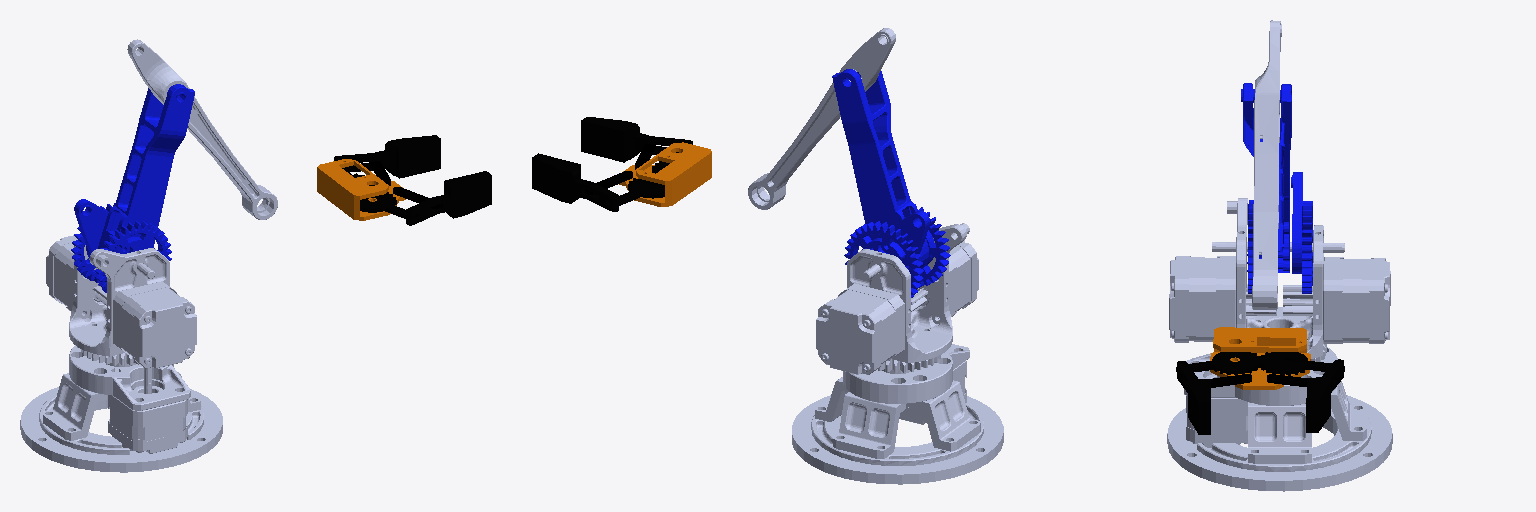
URDF robot description (arm_assem_urdf_v3):
<?xml version="1.0" encoding="utf-8" ?>
<!-- This URDF was automatically created by SolidWorks to URDF Exporter! Originally created by [author] ([email redacted]) 
     Commit Version: 1.6.0-4-g7f85cfe  Build Version: 1.6.7995.38578
     For more information, please see http://wiki.ros.org/sw_urdf_exporter -->
<robot name="arm_assem_urdf_v3">
    <link name="base_link">
        <inertial>
            <origin xyz="0.00150640163569479 -0.00744412697137323 0.021575291745562" rpy="0 0 0" />
            <mass value="0.225155608259606" />
            <inertia ixx="0.000158731186562235" ixy="1.89478288443537E-10" ixz="6.38637064713494E-07" iyy="0.000155364980363025" iyz="-7.89520234501468E-07" izz="0.000292560052720127" />
        </inertial>
        <visual>
            <origin xyz="0 0 0" rpy="0 0 0" />
            <geometry>
                <mesh filename="package://arm_assem_urdf_v3/meshes/base_link.STL" />
            </geometry>
            <material name="">
                <color rgba="0.792156862745098 0.819607843137255 0.933333333333333 1" />
            </material>
        </visual>
        <collision>
            <origin xyz="0 0 0" rpy="0 0 0" />
            <geometry>
                <mesh filename="package://arm_assem_urdf_v3/meshes/base_link.STL" />
            </geometry>
        </collision>
    </link>
    <link name="world" />
    <joint name="base_joint" type="fixed">
        <parent link="world" />
        <child link="base_link" />
        <origin rpy="0 0 0" xyz="0.0 0.0 0.0" />
    </joint>
    <link name="Link1">
        <inertial>
            <origin xyz="-0.000219660149647 -0.000206217410116394 0.0234208435275494" rpy="0 0 0" />
            <mass value="0.204256155677227" />
            <inertia ixx="8.37656797330928E-05" ixy="-1.11869600215038E-06" ixz="1.97407066773803E-06" iyy="7.64080027310773E-05" iyz="1.77249752239893E-06" izz="7.39724330055071E-05" />
        </inertial>
        <visual>
            <origin xyz="0 0 0" rpy="0 0 0" />
            <geometry>
                <mesh filename="package://arm_assem_urdf_v3/meshes/Link1.STL" />
            </geometry>
            <material name="">
                <color rgba="0.792156862745098 0.819607843137255 0.933333333333333 1" />
            </material>
        </visual>
        <collision>
            <origin xyz="0 0 0" rpy="0 0 0" />
            <geometry>
                <mesh filename="package://arm_assem_urdf_v3/meshes/Link1.STL" />
            </geometry>
        </collision>
    </link>
    <joint name="joint1" type="revolute">
        <origin xyz="0 0 0.069677" rpy="0 0 0" />
        <parent link="base_link" />
        <child link="Link1" />
        <axis xyz="0 0 -1" />
        <limit lower="-1.57" upper="1.57" effort="300" velocity="6" />
    </joint>
    <link name="link2">
        <inertial>
            <origin xyz="-0.000635030725265592 -0.0017005378112866 0.0303940578530917" rpy="0 0 0" />
            <mass value="0.0618234826721945" />
            <inertia ixx="7.2519438819205E-05" ixy="8.94729351156938E-08" ixz="-3.46012942132548E-07" iyy="7.65877029225625E-05" iyz="2.11637770985362E-06" izz="9.13398981116826E-06" />
        </inertial>
        <visual>
            <origin xyz="0 0 0" rpy="0 0 0" />
            <geometry>
                <mesh filename="package://arm_assem_urdf_v3/meshes/link2.STL" />
            </geometry>
            <material name="">
                <color rgba="0.0941176470588235 0.145098039215686 0.972549019607843 1" />
            </material>
        </visual>
        <collision>
            <origin xyz="0 0 0" rpy="0 0 0" />
            <geometry>
                <mesh filename="package://arm_assem_urdf_v3/meshes/link2.STL" />
            </geometry>
        </collision>
    </link>
    <joint name="joint2" type="revolute">
        <origin xyz="0 0 0.060523" rpy="0.0010408 0.27868 0.00028631" />
        <parent link="Link1" />
        <child link="link2" />
        <axis xyz="0.018199 0.99983 0.0041666" />
        <limit lower="-1.57" upper="1.57" effort="300" velocity="6" />
    </joint>
    <link name="link3">
        <inertial>
            <origin xyz="-0.000154541510170358 0.00680484750009253 0.0412582679635699" rpy="0 0 0" />
            <mass value="0.0214055275323528" />
            <inertia ixx="5.24770197465649E-05" ixy="-4.53189771846521E-09" ixz="2.11924573360701E-08" iyy="5.26782722904222E-05" iyz="-9.45340410405457E-07" izz="8.8759756943985E-07" />
        </inertial>
        <visual>
            <origin xyz="0 0 0" rpy="0 0 0" />
            <geometry>
                <mesh filename="package://arm_assem_urdf_v3/meshes/link3.STL" />
            </geometry>
            <material name="">
                <color rgba="0.792156862745098 0.819607843137255 0.933333333333333 1" />
            </material>
        </visual>
        <collision>
            <origin xyz="0 0 0" rpy="0 0 0" />
            <geometry>
                <mesh filename="package://arm_assem_urdf_v3/meshes/link3.STL" />
            </geometry>
        </collision>
    </link>
    <joint name="joint3" type="revolute">
        <origin xyz="0 0 0.12" rpy="3.1205 -0.88394 0.012478" />
        <parent link="link2" />
        <child link="link3" />
        <axis xyz="0.022672 -0.99974 0" />
        <limit lower="-1.57" upper="1.57" effort="300" velocity="6" />
    </joint>
    <link name="link4">
        <inertial>
            <origin xyz="-0.00934298668041544 0.000743518808622917 0.0267425924332726" rpy="0 0 0" />
            <mass value="0.023112618067934" />
            <inertia ixx="3.49933692107677E-06" ixy="2.69354223820958E-07" ixz="-1.92888175122474E-07" iyy="3.25892331793769E-06" iyz="4.91629627315494E-09" izz="4.7358787095275E-06" />
        </inertial>
        <visual>
            <origin xyz="0 0 0" rpy="0 0 0" />
            <geometry>
                <mesh filename="package://arm_assem_urdf_v3/meshes/link4.STL" />
            </geometry>
            <material name="">
                <color rgba="0.0941176470588235 0.145098039215686 0.972549019607843 1" />
            </material>
        </visual>
        <collision>
            <origin xyz="0 0 0" rpy="0 0 0" />
            <geometry>
                <mesh filename="package://arm_assem_urdf_v3/meshes/link4.STL" />
            </geometry>
        </collision>
    </link>
    <joint name="joint4" type="revolute">
        <origin xyz="0 0 0.12" rpy="-0.96533 0 -1.5481" />
        <parent link="link3" />
        <child link="link4" />
        <axis xyz="1 0 0" />
        <limit lower="-1.57" upper="1.57" effort="300" velocity="6" />
    </joint>
    <link name="link5">
        <inertial>
            <origin xyz="-0.00239092663439414 -0.00197324019686757 0.0161784991555977" rpy="0 0 0" />
            <mass value="0.0126330821792413" />
            <inertia ixx="2.68274528562228E-06" ixy="6.34711081616282E-08" ixz="3.16305210084618E-08" iyy="5.25117320157148E-06" iyz="3.98302641486583E-07" izz="3.73419870748951E-06" />
        </inertial>
        <visual>
            <origin xyz="0 0 0" rpy="0 0 0" />
            <geometry>
                <mesh filename="package://arm_assem_urdf_v3/meshes/link5.STL" />
            </geometry>
            <material name="">
                <color rgba="0.866666666666667 0.486274509803922 0.0588235294117647 1" />
            </material>
        </visual>
        <collision>
            <origin xyz="0 0 0" rpy="0 0 0" />
            <geometry>
                <mesh filename="package://arm_assem_urdf_v3/meshes/link5.STL" />
            </geometry>
        </collision>
    </link>
    <joint name="joint5" type="revolute">
        <origin xyz="-0.0072522 -0.0056047 0.0561" rpy="0 0 0" />
        <parent link="link4" />
        <child link="link5" />
        <axis xyz="0 0 -1" />
        <limit lower="-1.57" upper="1.57" effort="300" velocity="6" />
    </joint>
    <link name="rightGripper">
        <inertial>
            <origin xyz="0.00144162102260376 -0.00353867607475858 2.30607200002453E-13" rpy="0 0 0" />
            <mass value="0.00233493264577781" />
            <inertia ixx="3.0457499132358E-07" ixy="6.56068122289291E-08" ixz="2.90693388184678E-22" iyy="1.3682092240518E-07" iyz="-1.51570107499573E-21" izz="4.37893514760094E-07" />
        </inertial>
        <visual>
            <origin xyz="0 0 0" rpy="0 0 0" />
            <geometry>
                <mesh filename="package://arm_assem_urdf_v3/meshes/rightGripper.STL" />
            </geometry>
            <material name="">
                <color rgba="0.0196078431372549 0.0196078431372549 0.0196078431372549 1" />
            </material>
        </visual>
        <collision>
            <origin xyz="0 0 0" rpy="0 0 0" />
            <geometry>
                <mesh filename="package://arm_assem_urdf_v3/meshes/rightGripper.STL" />
            </geometry>
        </collision>
    </link>
    <joint name="rgripper_joint" type="revolute">
        <origin xyz="-0.016798 -0.0043953 0.0205" rpy="-1.5708 -1.5522 0" />
        <parent link="link5" />
        <child link="rightGripper" />
        <axis xyz="0 0 -1" />
        <limit lower="-1.57" upper="1.57" effort="300" velocity="6" />
    </joint>
    <link name="r_finger">
        <inertial>
            <origin xyz="0.044314154210055 0.0103703079345868 0.000990344503798118" rpy="0 0 0" />
            <mass value="0.00995624544719296" />
            <inertia ixx="5.42065432815972E-07" ixy="-4.36707086314946E-07" ixz="-2.97754922218503E-09" iyy="2.70090956464801E-06" iyz="-6.12682587836477E-10" izz="2.53748010084301E-06" />
        </inertial>
        <visual>
            <origin xyz="0 0 0" rpy="0 0 0" />
            <geometry>
                <mesh filename="package://arm_assem_urdf_v3/meshes/r_finger.STL" />
            </geometry>
            <material name="">
                <color rgba="0.0196078431372549 0.0196078431372549 0.0196078431372549 1" />
            </material>
        </visual>
        <collision>
            <origin xyz="0 0 0" rpy="0 0 0" />
            <geometry>
                <mesh filename="package://arm_assem_urdf_v3/meshes/r_finger.STL" />
            </geometry>
        </collision>
    </link>
    <joint name="r_fingerj" type="revolute">
        <origin xyz="0.010575 -0.03205 -0.0015" rpy="0 0 0" />
        <parent link="rightGripper" />
        <child link="r_finger" />
        <axis xyz="0 0 -1" />
        <limit lower="-1.57" upper="1.57" effort="300" velocity="6" />
    </joint>
    <link name="leftGripper">
        <inertial>
            <origin xyz="0.00125836519034134 0.00326509739095496 -6.2762673342015E-05" rpy="0 0 0" />
            <mass value="0.00220737553386929" />
            <inertia ixx="3.0234988544685E-07" ixy="-5.673947300425E-08" ixz="6.61985177775197E-11" iyy="1.28450669790127E-07" iyz="3.94721215242359E-10" izz="4.27506882316946E-07" />
        </inertial>
        <visual>
            <origin xyz="0 0 0" rpy="0 0 0" />
            <geometry>
                <mesh filename="package://arm_assem_urdf_v3/meshes/leftGripper.STL" />
            </geometry>
            <material name="">
                <color rgba="0.0196078431372549 0.0196078431372549 0.0196078431372549 1" />
            </material>
        </visual>
        <collision>
            <origin xyz="0 0 0" rpy="0 0 0" />
            <geometry>
                <mesh filename="package://arm_assem_urdf_v3/meshes/leftGripper.STL" />
            </geometry>
        </collision>
    </link>
    <joint name="Lgripperjoint" type="revolute">
        <origin xyz="0.013202 -0.0043953 0.0205" rpy="-1.5708 -1.5522 0" />
        <parent link="link5" />
        <child link="leftGripper" />
        <axis xyz="0 0 1" />
        <limit lower="-1.57" upper="1.57" effort="300" velocity="6" />
    </joint>
    <link name="l_fing">
        <inertial>
            <origin xyz="0.0438967443303473 -0.0120151315934035 0.00150965549635686" rpy="0 0 0" />
            <mass value="0.00995624544719296" />
            <inertia ixx="5.77604056032025E-07" ixy="5.15919018530005E-07" ixz="2.95263858591668E-09" iyy="2.66537094143195E-06" iyz="-7.23259776929588E-10" izz="2.53748010084301E-06" />
        </inertial>
        <visual>
            <origin xyz="0 0 0" rpy="0 0 0" />
            <geometry>
                <mesh filename="package://arm_assem_urdf_v3/meshes/l_fing.STL" />
            </geometry>
            <material name="">
                <color rgba="0.0196078431372549 0.0196078431372549 0.0196078431372549 1" />
            </material>
        </visual>
        <collision>
            <origin xyz="0 0 0" rpy="0 0 0" />
            <geometry>
                <mesh filename="package://arm_assem_urdf_v3/meshes/l_fing.STL" />
            </geometry>
        </collision>
    </link>
    <joint name="l_fing_j" type="revolute">
        <origin xyz="0.0092191 0.032466 -0.0015" rpy="0 0 0" />
        <parent link="leftGripper" />
        <child link="l_fing" />
        <axis xyz="0 0 -1" />
        <limit lower="-1.57" upper="1.57" effort="300" velocity="6" />
    </joint>
    <link name="r_elbo">
        <inertial>
            <origin xyz="0.00528751165543523 -0.0160252252868439 0.00150000000007736" rpy="0 0 0" />
            <mass value="0.000682275993524469" />
            <inertia ixx="6.76453700296653E-08" ixy="2.13243058801086E-08" ixz="1.05378813934445E-22" iyy="1.00522688788846E-08" iyz="-3.299793730521E-22" izz="7.66742249182632E-08" />
        </inertial>
        <visual>
            <origin xyz="0 0 0" rpy="0 0 0" />
            <geometry>
                <mesh filename="package://arm_assem_urdf_v3/meshes/r_elbo.STL" />
            </geometry>
            <material name="">
                <color rgba="0 0 0 1" />
            </material>
        </visual>
        <collision>
            <origin xyz="0 0 0" rpy="0 0 0" />
            <geometry>
                <mesh filename="package://arm_assem_urdf_v3/meshes/r_elbo.STL" />
            </geometry>
        </collision>
    </link>
    <joint name="r_j_elbo" type="revolute">
        <origin xyz="-0.0092978 -0.0058953 0.0435" rpy="-1.5708 -1.5522 0" />
        <parent link="link5" />
        <child link="r_elbo" />
        <axis xyz="0 0 1" />
        <limit lower="-1.57" upper="1.57" effort="300" velocity="6" />
    </joint>
    <link name="l_elbo">
        <inertial>
            <origin xyz="0.00460957239645077 0.0162332211012552 0.00150000000007761" rpy="0 0 0" />
            <mass value="0.000682275993524472" />
            <inertia ixx="6.93339337928684E-08" ixy="-1.88314935698777E-08" ixz="-9.86473238800678E-23" iyy="8.36370511568178E-09" iyz="-3.50313833197767E-22" izz="7.66742249182634E-08" />
        </inertial>
        <visual>
            <origin xyz="0 0 0" rpy="0 0 0" />
            <geometry>
                <mesh filename="package://arm_assem_urdf_v3/meshes/l_elbo.STL" />
            </geometry>
            <material name="">
                <color rgba="0 0 0 1" />
            </material>
        </visual>
        <collision>
            <origin xyz="0 0 0" rpy="0 0 0" />
            <geometry>
                <mesh filename="package://arm_assem_urdf_v3/meshes/l_elbo.STL" />
            </geometry>
        </collision>
    </link>
    <joint name="l_j_elbo" type="revolute">
        <origin xyz="0.0057022 -0.0058953 0.0435" rpy="-1.5708 -1.5522 0" />
        <parent link="link5" />
        <child link="l_elbo" />
        <axis xyz="0 0 1" />
        <limit lower="-1.57" upper="1.57" effort="300" velocity="6" />
    </joint>
    <transmission name="Link1_trans">
        <type>transmission_interface/SimpleTransmission</type>
        <joint name="joint1">
            <hardwareInterface>hardware_interface/PositionJointInterface</hardwareInterface>
        </joint>
        <actuator name="Link1_motor">
            <hardwareInterface>hardware_interface/PositionJointInterface</hardwareInterface>
            <mechanicalReduction>1</mechanicalReduction>
        </actuator>
    </transmission>
    <transmission name="link2_trans">
        <type>transmission_interface/SimpleTransmission</type>
        <joint name="joint2">
            <hardwareInterface>hardware_interface/PositionJointInterface</hardwareInterface>
        </joint>
        <actuator name="link2_motor">
            <hardwareInterface>hardware_interface/PositionJointInterface</hardwareInterface>
            <mechanicalReduction>1</mechanicalReduction>
        </actuator>
    </transmission>
    <transmission name="link3_trans">
        <type>transmission_interface/SimpleTransmission</type>
        <joint name="joint3">
            <hardwareInterface>hardware_interface/PositionJointInterface</hardwareInterface>
        </joint>
        <actuator name="link3_motor">
            <hardwareInterface>hardware_interface/PositionJointInterface</hardwareInterface>
            <mechanicalReduction>1</mechanicalReduction>
        </actuator>
    </transmission>
    <transmission name="link4_trans">
        <type>transmission_interface/SimpleTransmission</type>
        <joint name="joint4">
            <hardwareInterface>hardware_interface/PositionJointInterface</hardwareInterface>
        </joint>
        <actuator name="link4_motor">
            <hardwareInterface>hardware_interface/PositionJointInterface</hardwareInterface>
            <mechanicalReduction>1</mechanicalReduction>
        </actuator>
    </transmission>
    <transmission name="link5_trans">
        <type>transmission_interface/SimpleTransmission</type>
        <joint name="joint5">
            <hardwareInterface>hardware_interface/PositionJointInterface</hardwareInterface>
        </joint>
        <actuator name="link5_motor">
            <hardwareInterface>hardware_interface/PositionJointInterface</hardwareInterface>
            <mechanicalReduction>1</mechanicalReduction>
        </actuator>
    </transmission>
    <transmission name="rightGripper_trans">
        <type>transmission_interface/SimpleTransmission</type>
        <joint name="rgripper_joint">
            <hardwareInterface>hardware_interface/PositionJointInterface</hardwareInterface>
        </joint>
        <actuator name="rightGripper_motor">
            <hardwareInterface>hardware_interface/PositionJointInterface</hardwareInterface>
            <mechanicalReduction>1</mechanicalReduction>
        </actuator>
    </transmission>
    <transmission name="r_finger_trans">
        <type>transmission_interface/SimpleTransmission</type>
        <joint name="r_fingerj">
            <hardwareInterface>hardware_interface/PositionJointInterface</hardwareInterface>
        </joint>
        <actuator name="r_finger_motor">
            <hardwareInterface>hardware_interface/PositionJointInterface</hardwareInterface>
            <mechanicalReduction>1</mechanicalReduction>
        </actuator>
    </transmission>
    <transmission name="leftGripper_trans">
        <type>transmission_interface/SimpleTransmission</type>
        <joint name="Lgripperjoint">
            <hardwareInterface>hardware_interface/PositionJointInterface</hardwareInterface>
        </joint>
        <actuator name="leftGripper_motor">
            <hardwareInterface>hardware_interface/PositionJointInterface</hardwareInterface>
            <mechanicalReduction>1</mechanicalReduction>
        </actuator>
    </transmission>
    <transmission name="l_fing_trans">
        <type>transmission_interface/SimpleTransmission</type>
        <joint name="l_fing_j">
            <hardwareInterface>hardware_interface/PositionJointInterface</hardwareInterface>
        </joint>
        <actuator name="l_fing_motor">
            <hardwareInterface>hardware_interface/PositionJointInterface</hardwareInterface>
            <mechanicalReduction>1</mechanicalReduction>
        </actuator>
    </transmission>
    <transmission name="r_elbo_trans">
        <type>transmission_interface/SimpleTransmission</type>
        <joint name="r_j_elbo">
            <hardwareInterface>hardware_interface/PositionJointInterface</hardwareInterface>
        </joint>
        <actuator name="r_elbo_motor">
            <hardwareInterface>hardware_interface/PositionJointInterface</hardwareInterface>
            <mechanicalReduction>1</mechanicalReduction>
        </actuator>
    </transmission>
    <transmission name="l_elbo_trans">
        <type>transmission_interface/SimpleTransmission</type>
        <joint name="l_j_elbo">
            <hardwareInterface>hardware_interface/PositionJointInterface</hardwareInterface>
        </joint>
        <actuator name="l_elbo_motor">
            <hardwareInterface>hardware_interface/PositionJointInterface</hardwareInterface>
            <mechanicalReduction>1</mechanicalReduction>
        </actuator>
    </transmission>
    <gazebo>
        <plugin name="control" filename="libgazebo_ros_control.so">
            <robotNamespace>/</robotNamespace>
        </plugin>
        <plugin name="gazebo_ros_control" filename="libgazebo_ros_control.so">
            <robotNamespace>/</robotNamespace>
        </plugin>
    </gazebo>
    <gazebo reference="Link1">
        <selfCollide>true</selfCollide>
    </gazebo>
    <gazebo reference="link2">
        <selfCollide>true</selfCollide>
    </gazebo>
    <gazebo reference="link3">
        <selfCollide>true</selfCollide>
    </gazebo>
    <gazebo reference="link4">
        <selfCollide>true</selfCollide>
    </gazebo>
    <gazebo reference="link5">
        <selfCollide>true</selfCollide>
    </gazebo>
    <gazebo reference="rightGripper">
        <selfCollide>true</selfCollide>
    </gazebo>
    <gazebo reference="r_finger">
        <selfCollide>true</selfCollide>
    </gazebo>
    <gazebo reference="leftGripper">
        <selfCollide>true</selfCollide>
    </gazebo>
    <gazebo reference="l_fing">
        <selfCollide>true</selfCollide>
    </gazebo>
    <gazebo reference="r_elbo">
        <selfCollide>true</selfCollide>
    </gazebo>
    <gazebo reference="l_elbo">
        <selfCollide>true</selfCollide>
    </gazebo>
</robot>

--- Render facts (derived) ---
Views: 3 orthographic renders of the robot side by side, from view 1: azimuth 30°, elevation 25°; view 2: azimuth 150°, elevation 25°; view 3: azimuth 270°, elevation 25°.
Model arm_assem_urdf_v3 with 13 links and 12 joints (11 revolute, 1 fixed), rooted at world, posed all joints at 0.
Links seen in each view (by area): view 1: base_link, Link1, link2, link3, link5, l_fing, r_finger, rightGripper; view 2: base_link, Link1, link2, link3, link5, r_finger, l_fing, leftGripper; view 3: base_link, Link1, link3, link2, link5, l_fing, r_finger, leftGripper, rightGripper.
Boxes of the visible links, x1,y1,x2,y2 form: base_link: [20, 345, 222, 472]; Link1: [46, 235, 196, 368]; link2: [71, 84, 194, 292]; link3: [127, 39, 277, 219]; link5: [317, 159, 405, 220]; l_fing: [334, 135, 440, 178]; r_finger: [406, 171, 491, 225]; rightGripper: [360, 192, 414, 219]; base_link: [792, 344, 1003, 484]; Link1: [816, 223, 978, 374]; link2: [832, 69, 950, 297]; link3: [748, 28, 895, 209]; link5: [619, 142, 711, 206]; r_finger: [581, 117, 692, 162]; l_fing: [532, 153, 618, 211]; leftGripper: [610, 178, 664, 206]; base_link: [1167, 347, 1392, 491]; Link1: [1169, 198, 1390, 361]; link3: [1252, 20, 1281, 309]; link2: [1241, 83, 1312, 293]; link5: [1210, 327, 1310, 389]; l_fing: [1306, 359, 1343, 432]; r_finger: [1177, 361, 1210, 434]; leftGripper: [1259, 352, 1344, 375]; rightGripper: [1176, 352, 1261, 374].
Bounding box of the posed robot: 0.3238 × 0.135 × 0.2844 m (x, y, z).
Meshes: 12 distinct files referenced, 11 mesh visuals loaded (11 binary STL); not drawn: 1 (reference not matched to a file when rendering).